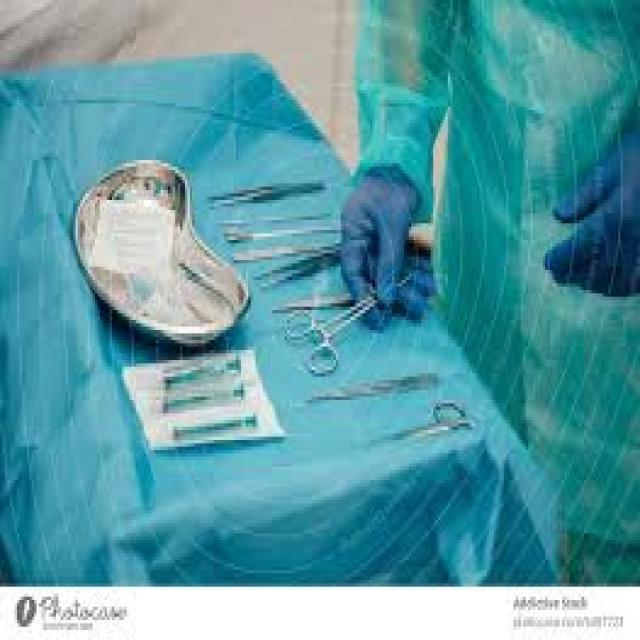tools_table: (0, 56, 343, 590)
